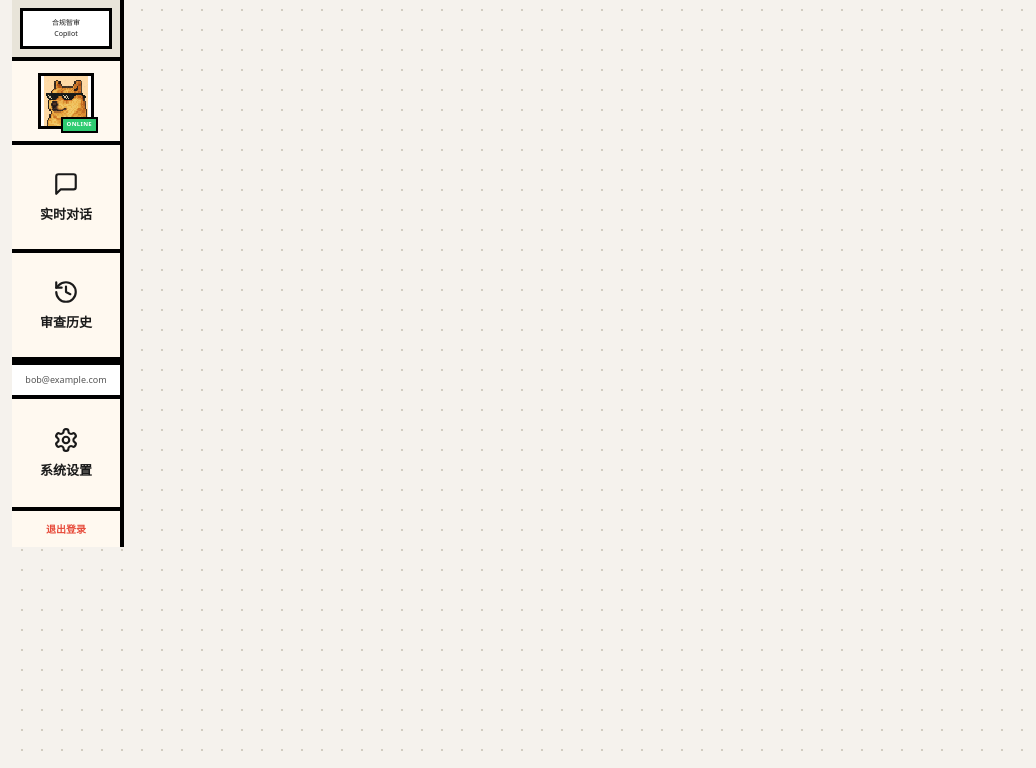
Scenario: SideNav › only shows history entries belonging to the signed-in user
Click the button "审查历史". click: (66, 307)
box: [12,253,120,361]
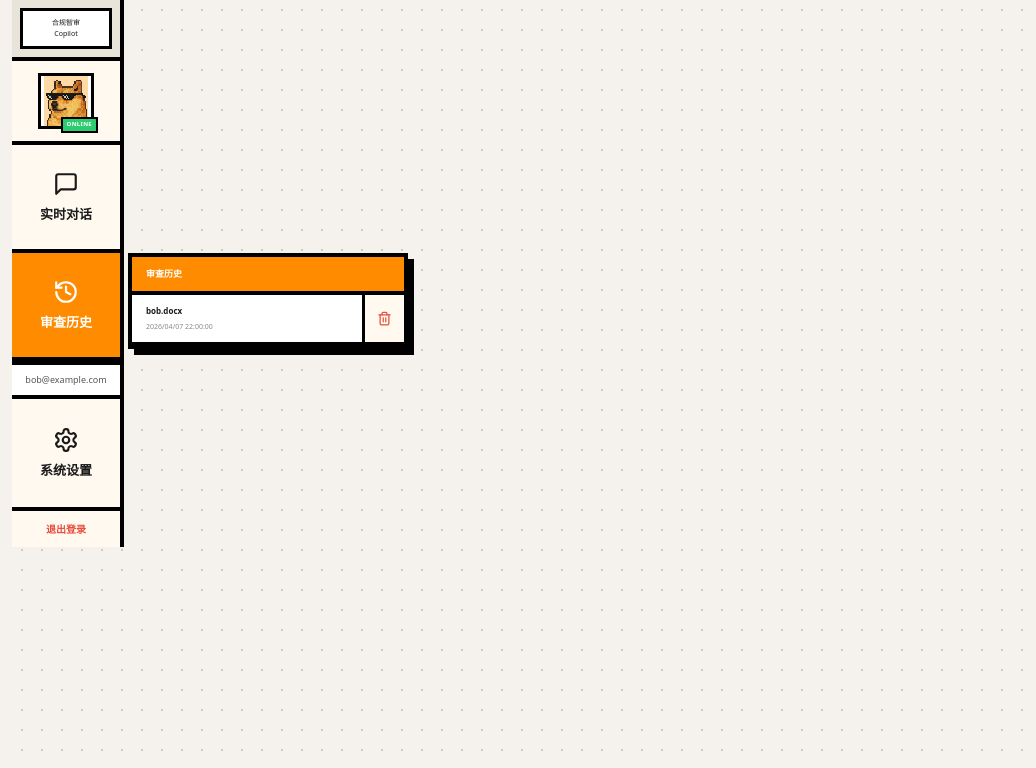
Now the text "bob.docx" is shown, box [146,305,182,316]
